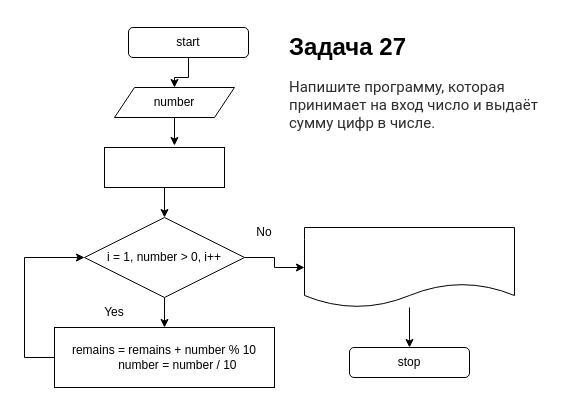
Some shapes in this 562 by 405 pixel diagram are drawn without their labels. The box of each missing label's shape, as (x1, y1, x2, y2) in pixels:
remains: (104, 146, 224, 188)
Сумма цифр в числе: remains: (304, 226, 514, 308)
